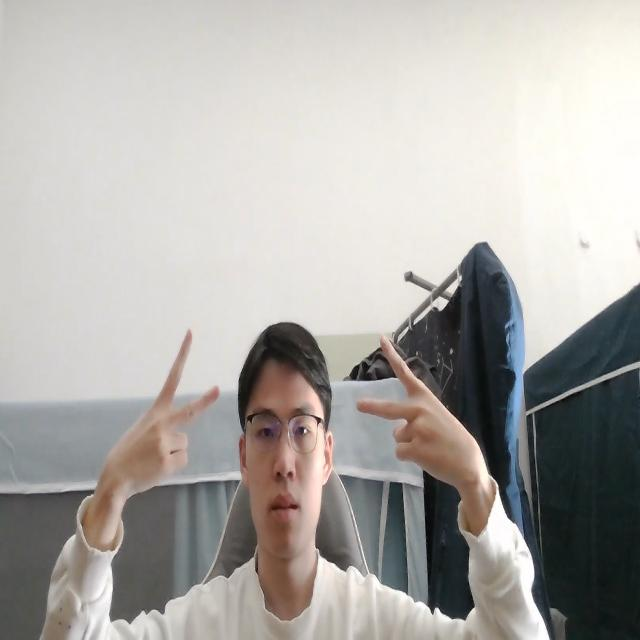yes: (350, 334, 489, 502), (94, 324, 222, 506)
